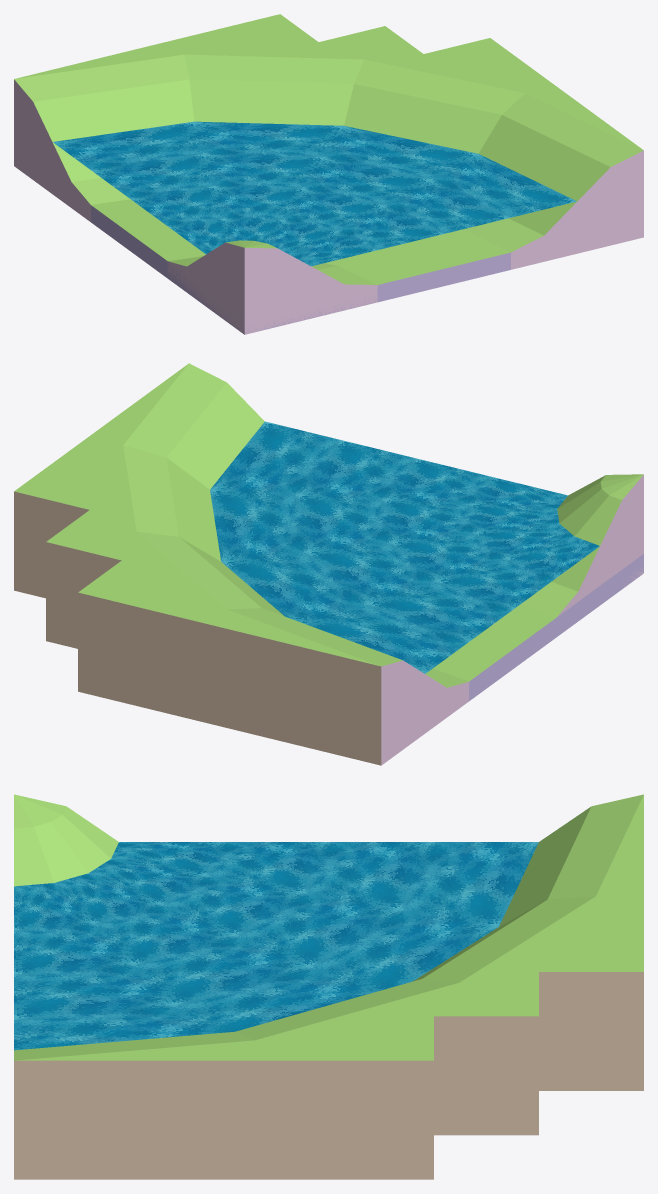
File: River_Curve_Wide_CW.glb
3 renders of one model, top to bottom at view 1: azimuth 30°, elevation 25°; view 2: azimuth 150°, elevation 25°; view 3: azimuth 270°, elevation 25°, orthographic. The views are drawn at different scales.
Visible parts, largest first — view 1: Grass_Hill_Sharp_Curve_Inner_6x6, Terrain_Water_River_Curve_CCW_5x5, Terrain_Water_River_Curve_CCW_3x3, Grass_Flat_1x1, Grass_Hill_Sharp_Curve_Outer_2x2; view 2: Grass_Hill_Sharp_Curve_Inner_6x6, Terrain_Water_River_Curve_CCW_5x5, Terrain_Water_River_Curve_CCW_3x3, Grass_Hill_Sharp_Curve_Outer_2x2, Grass_Flat_1x1; view 3: Grass_Hill_Sharp_Curve_Inner_6x6, Terrain_Water_River_Curve_CCW_5x5, Terrain_Water_River_Curve_CCW_3x3, Grass_Hill_Sharp_Curve_Outer_2x2.
Part boxes in pixels (<box>): Grass_Hill_Sharp_Curve_Inner_6x6: <box>14,14,643,269</box>; Terrain_Water_River_Curve_CCW_5x5: <box>53,121,576,233</box>; Terrain_Water_River_Curve_CCW_3x3: <box>130,186,443,266</box>; Grass_Flat_1x1: <box>91,199,510,334</box>; Grass_Hill_Sharp_Curve_Outer_2x2: <box>167,240,377,334</box>; Grass_Hill_Sharp_Curve_Inner_6x6: <box>14,363,468,765</box>; Terrain_Water_River_Curve_CCW_5x5: <box>210,421,512,673</box>; Terrain_Water_River_Curve_CCW_3x3: <box>383,458,599,609</box>; Grass_Hill_Sharp_Curve_Outer_2x2: <box>520,474,643,617</box>; Grass_Flat_1x1: <box>433,554,643,701</box>; Grass_Hill_Sharp_Curve_Inner_6x6: <box>14,794,643,1179</box>; Terrain_Water_River_Curve_CCW_5x5: <box>14,842,538,1050</box>; Terrain_Water_River_Curve_CCW_3x3: <box>14,842,328,974</box>; Grass_Hill_Sharp_Curve_Outer_2x2: <box>14,794,118,886</box>.
Bounding box in the file's own units: 600 × 125 × 600.
Materials: 7 (2 with a texture image).
